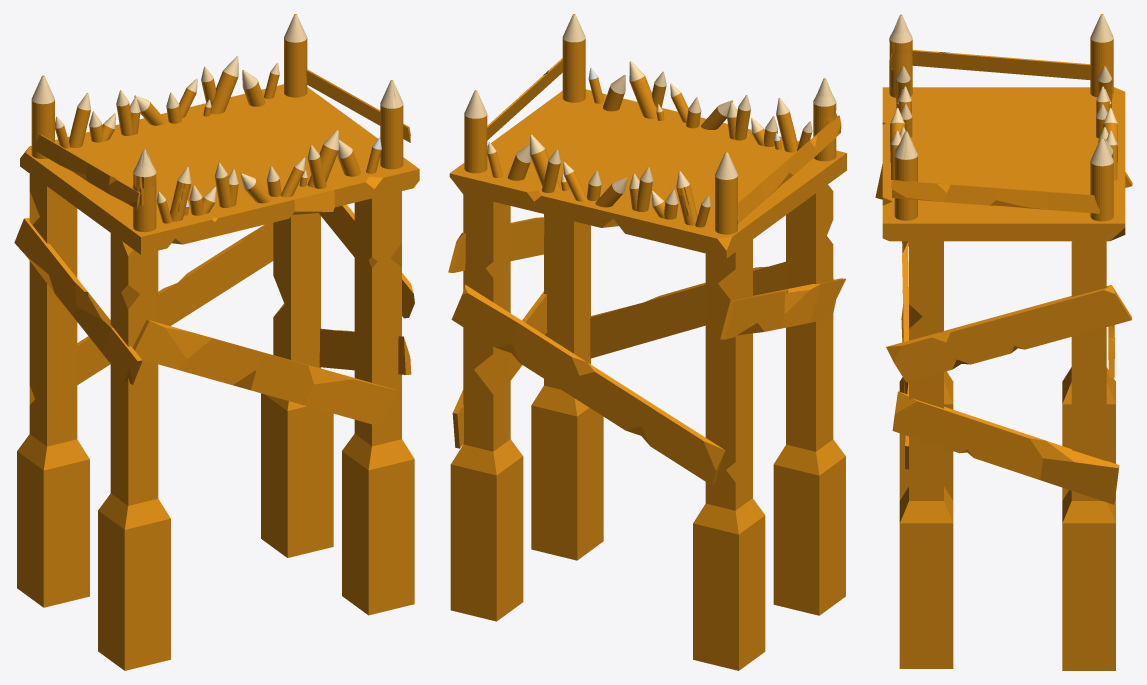
Rendered from Spear Tower.glb.
The picture shows the model from 3 angles, left to right: view 1: azimuth 30°, elevation 25°; view 2: azimuth 150°, elevation 25°; view 3: azimuth 270°, elevation 25°; orthographic projection.
Parts seen in each view (by area): view 1: Plane.001, Plane, Plane.002, Plane.005, Plane.006, Plane.007, Plane.004, Circle.002, Plane.003, Circle.004, Circle, Circle.025 (+8 smaller); view 2: Plane.001, Plane, Plane.005, Plane.002, Plane.006, Plane.007, Plane.003, Circle.002, Circle.004, Plane.004, Circle.006, Circle.025 (+8 smaller); view 3: Plane.001, Plane, Plane.003, Plane.004, Plane.007, Circle.004, Circle.002, Circle.006, Circle, Plane.002, Circle.005, Circle.007 (+3 smaller).
Boxes of the visible parts, x1,y1,x2,y2 form: Plane.001: [17, 174, 414, 670]; Plane: [20, 84, 419, 254]; Plane.002: [132, 319, 397, 426]; Plane.005: [77, 222, 273, 384]; Plane.006: [14, 218, 142, 384]; Plane.007: [33, 69, 410, 209]; Plane.004: [319, 328, 411, 374]; Circle.002: [380, 80, 403, 169]; Plane.003: [319, 204, 414, 318]; Circle.004: [284, 14, 307, 97]; Circle: [132, 148, 156, 232]; Circle.025: [69, 93, 191, 221]; Plane.001: [450, 184, 845, 670]; Plane: [449, 89, 846, 258]; Plane.005: [451, 285, 725, 485]; Plane.002: [590, 261, 833, 358]; Plane.006: [720, 278, 845, 339]; Plane.007: [487, 58, 841, 223]; Plane.003: [448, 217, 544, 272]; Circle.002: [562, 14, 585, 102]; Circle.004: [464, 90, 487, 173]; Plane.004: [452, 291, 547, 448]; Circle.006: [715, 151, 737, 234]; Circle.025: [676, 98, 797, 225]; Plane.001: [899, 241, 1115, 670]; Plane: [875, 87, 1125, 241]; Plane.003: [886, 285, 1131, 382]; Plane.004: [892, 391, 1119, 504]; Plane.007: [891, 50, 1099, 213]; Circle.004: [1090, 137, 1113, 221]; Circle.002: [894, 131, 917, 220]; Circle.006: [1090, 14, 1113, 97]; Circle: [889, 14, 912, 97]; Plane.002: [901, 241, 908, 469]; Circle.005: [1090, 138, 1113, 166]; Circle.007: [1090, 15, 1113, 42].
Bounding box in the file's own units: 6.11 × 10.42 × 4.59.
